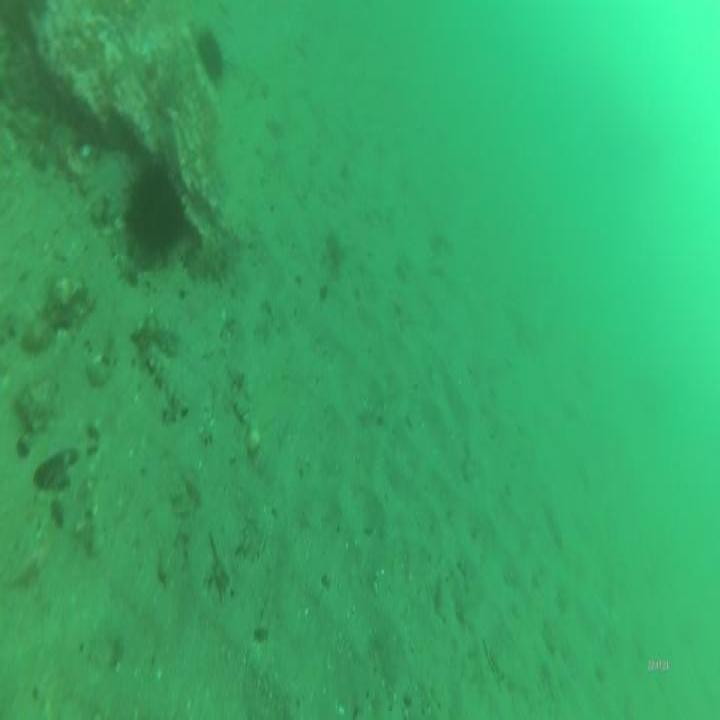echinus: (122, 154, 185, 260), (195, 23, 226, 93)
holothurian: (182, 224, 242, 284), (147, 342, 189, 420), (130, 306, 182, 359)
